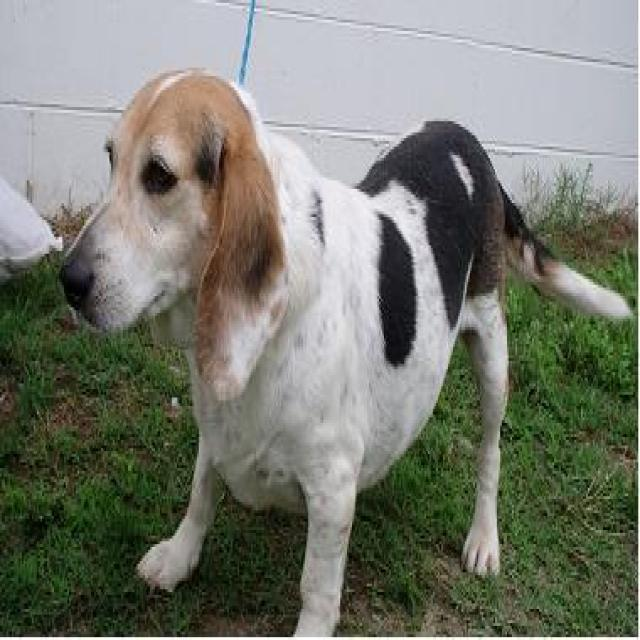beagle: (56, 59, 632, 626)
